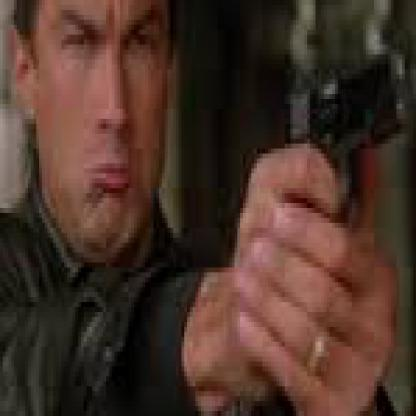gun: (0, 0, 413, 228)
